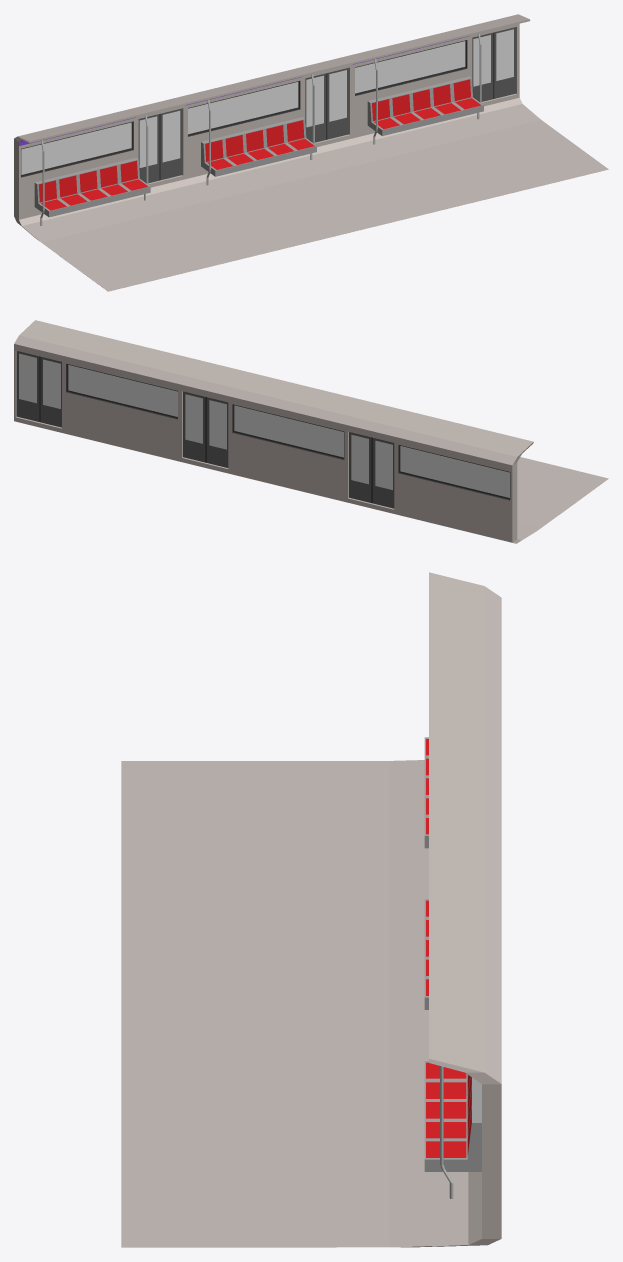
Rendered from metro.partidoblend 1.fbx.
The picture shows the model from 3 angles, top to bottom: view 1: azimuth 30°, elevation 25°; view 2: azimuth 150°, elevation 25°; view 3: azimuth 270°, elevation 25°; orthographic projection. The views are drawn at different scales.
Parts seen in each view (by area): view 1: Cube.002, Cube.001, Cube.020, Cube.014, Cube.015, Cube.017; view 2: Cube.002, Cube.020, Cube.001; view 3: Cube.001, Cube.020, Cube.002, Cube.015.
Part boxes in pixels (<box>): Cube.002: <box>14,95,274,291</box>; Cube.001: <box>352,14,608,209</box>; Cube.020: <box>185,55,441,250</box>; Cube.014: <box>34,157,150,217</box>; Cube.015: <box>367,76,483,135</box>; Cube.017: <box>201,117,316,176</box>; Cube.002: <box>346,401,608,543</box>; Cube.020: <box>180,360,367,502</box>; Cube.001: <box>14,320,200,461</box>; Cube.001: <box>121,896,501,1247</box>; Cube.020: <box>121,734,501,1085</box>; Cube.002: <box>121,572,501,923</box>; Cube.015: <box>424,1061,481,1171</box>.
Size of the model in its own units: 3505 by 625 by 1151.
